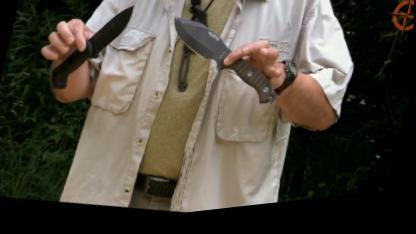knife: (155, 7, 293, 122), (47, 0, 135, 104)
